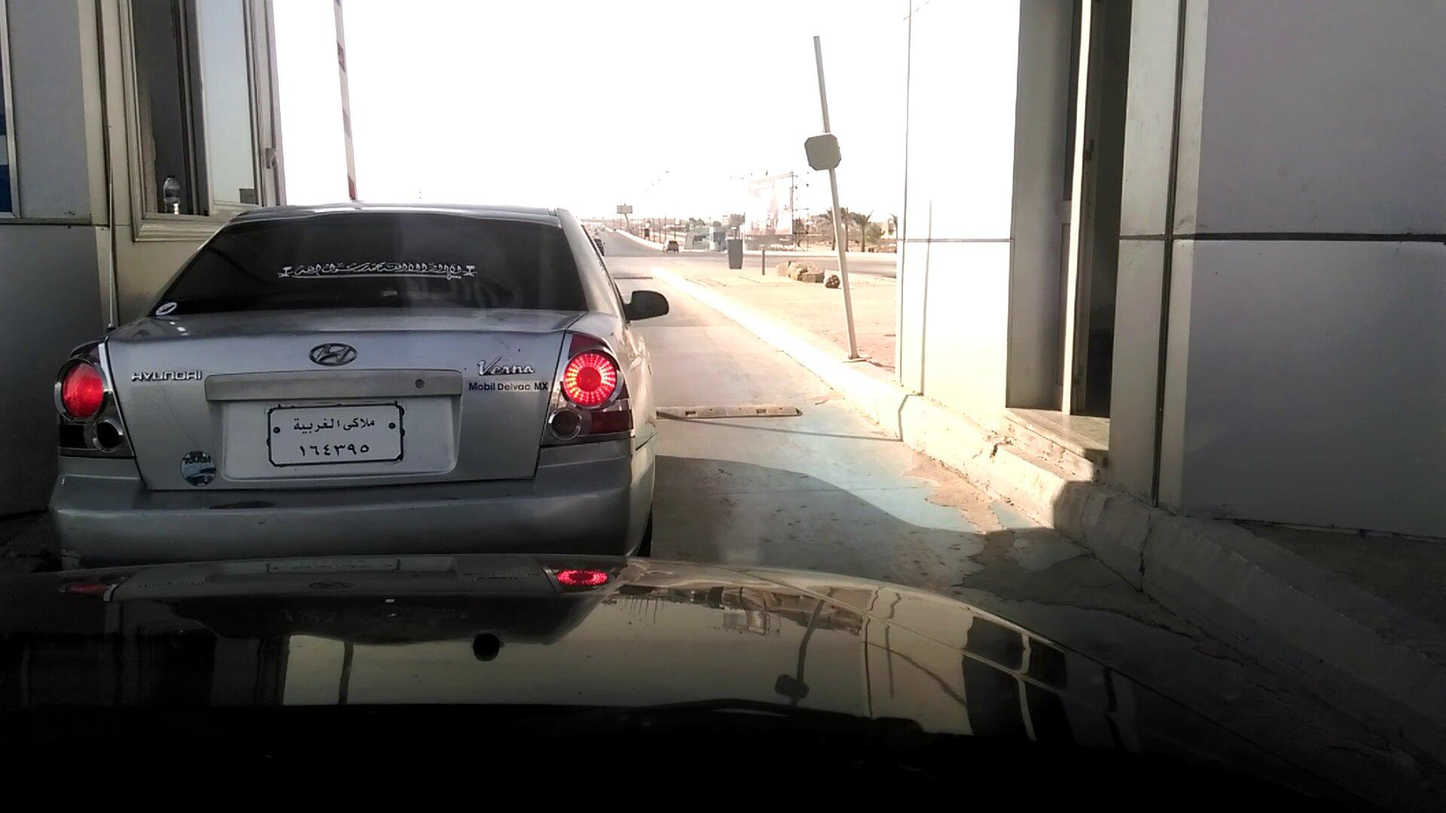Bump: (655, 401, 802, 422)
